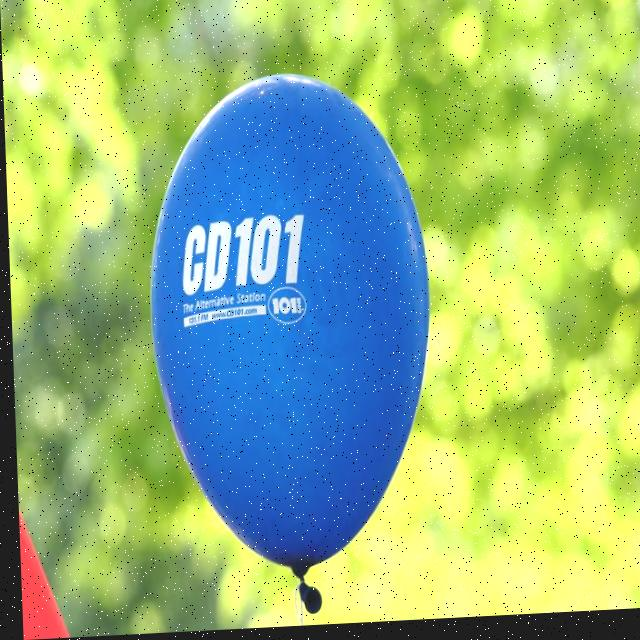balloon: (142, 59, 436, 614)
